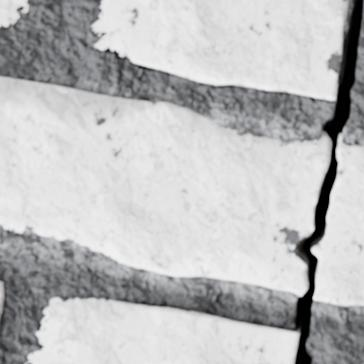brick: (93, 0, 347, 100), (30, 297, 299, 363), (0, 0, 28, 27), (0, 280, 5, 324)
broken_brick: (0, 77, 329, 295), (312, 140, 363, 304)
crack: (294, 0, 363, 363)
